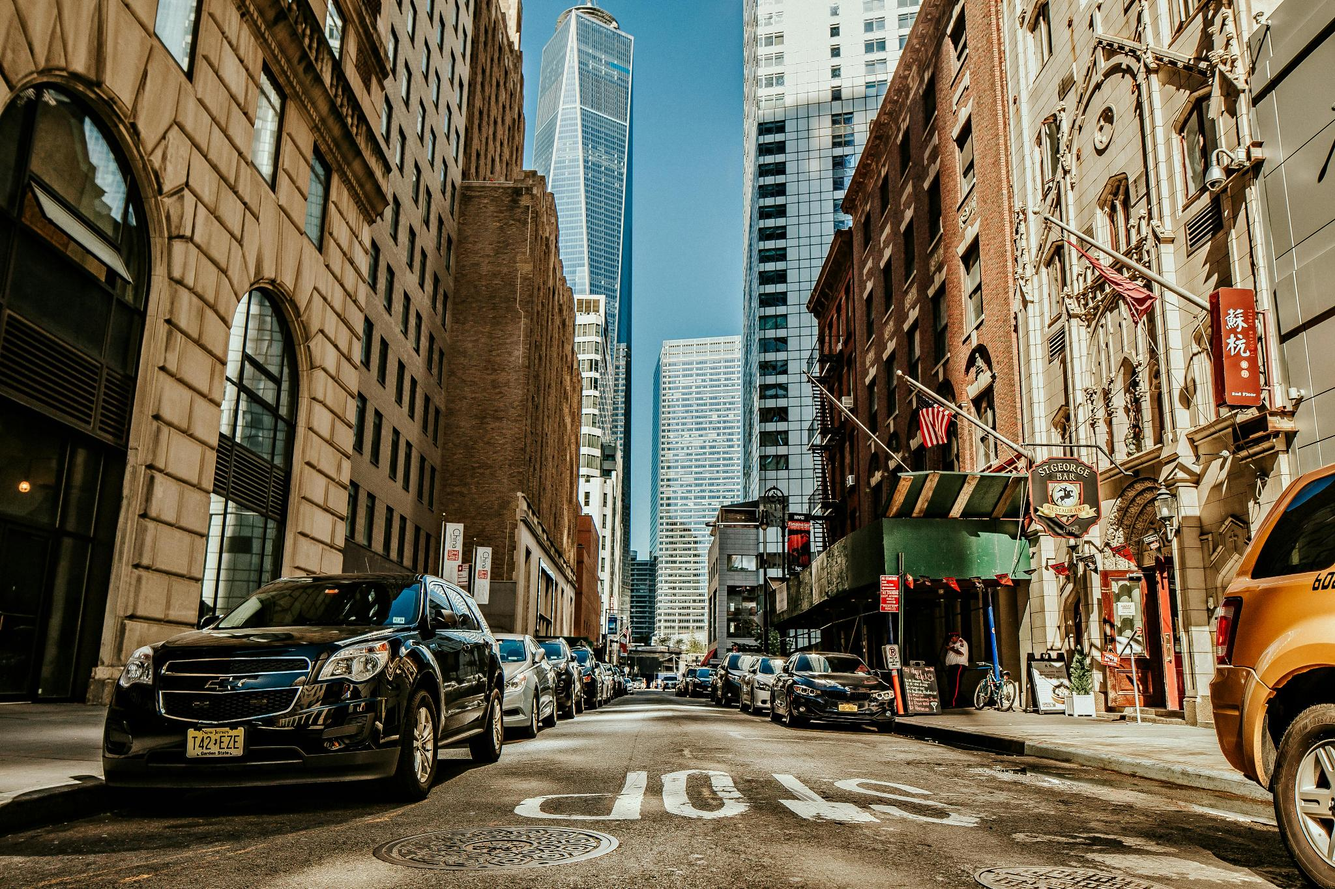car: (100, 567, 511, 800), (770, 655, 901, 730), (489, 636, 549, 740), (536, 640, 586, 720), (740, 657, 792, 716), (714, 654, 768, 708), (680, 664, 724, 699), (594, 665, 627, 703)
pedestrian: (944, 632, 973, 707)
